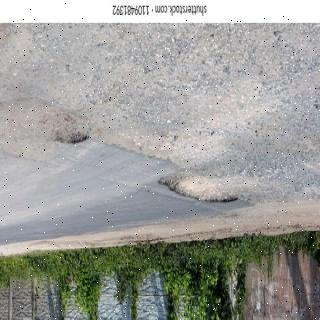pothole: (0, 97, 90, 158), (158, 176, 233, 200)
